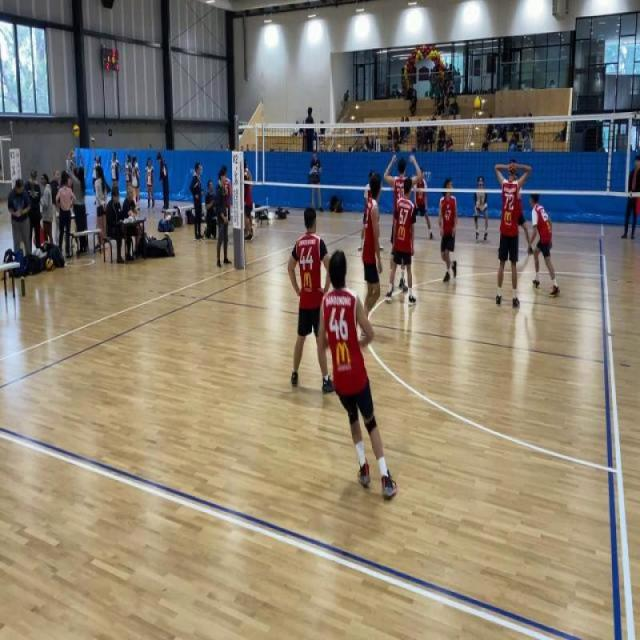volleyball: (473, 94, 483, 113), (45, 257, 54, 272), (72, 124, 80, 139), (163, 231, 171, 239), (147, 234, 154, 243)
